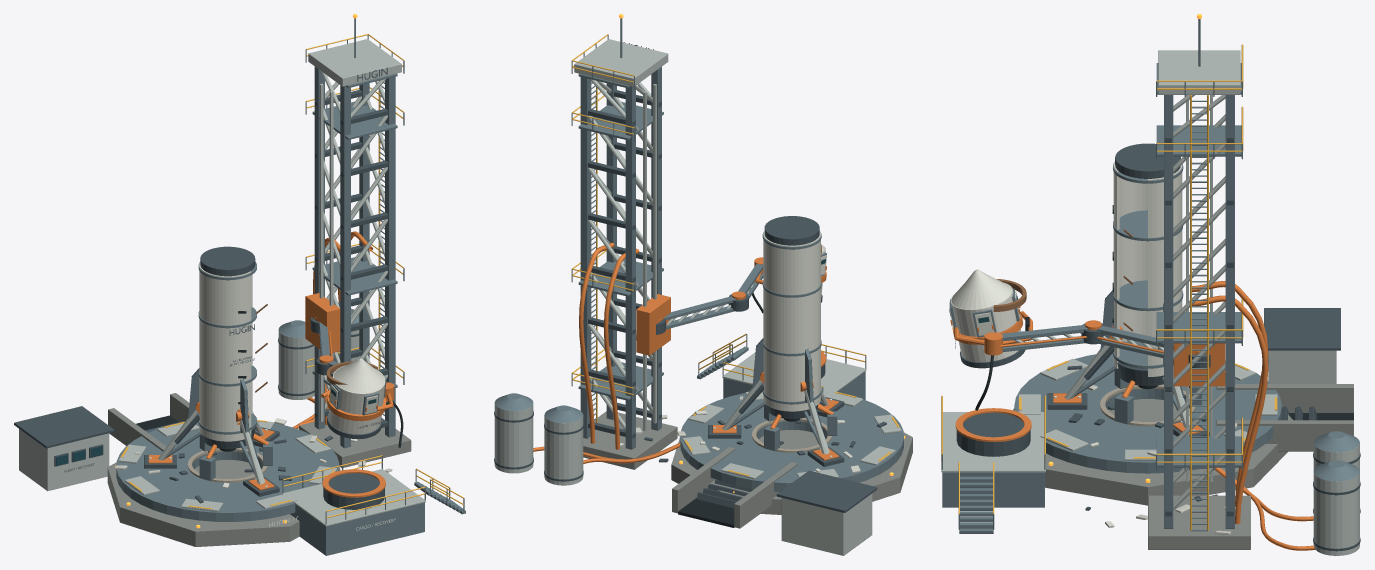
Rendered from hugin_launchpad_d2.glb.
The picture shows the model from 3 angles, left to right: view 1: azimuth 30°, elevation 25°; view 2: azimuth 150°, elevation 25°; view 3: azimuth 270°, elevation 25°; orthographic projection. The views are drawn at different scales.
Parts seen in each view (by area): view 1: Raised launch deck.002, Ruptured booster pressure hull, Octagonal launch foundation.002, Cargo receiving deck.002, Launch control shelter.002, Tower main chord.010, Tower main chord.008, Tower crown.002, Receiving deck surface.002, Control shelter roof.002, Tower main chord.009, Tower raft.002 (+13 smaller); view 2: Raised launch deck.002, Ruptured booster pressure hull, Launch control shelter.002, Tower main chord.009, Tower main chord.011, Octagonal launch foundation.002, Tower crown.002, Tower raft.002, Control shelter roof.002, Service pressure tank.004, Service pressure tank.005, Tower main chord.008 (+19 smaller); view 3: Raised launch deck.002, Ruptured booster pressure hull, Octagonal launch foundation.002, Tower raft.002, Tower main chord.010, Tower main chord.011, Tower crown.002, Service pressure tank.005, Control shelter roof.002, Receiving deck surface.002, Cargo receiving deck.002, Launch control shelter.002 (+29 smaller).
Boxes of the visible parts, <box> form: Raised launch deck.002: <box>116,422,339,521</box>; Ruptured booster pressure hull: <box>199,262,252,441</box>; Octagonal launch foundation.002: <box>107,460,340,546</box>; Cargo receiving deck.002: <box>290,502,424,555</box>; Launch control shelter.002: <box>19,429,109,491</box>; Tower main chord.010: <box>385,76,395,437</box>; Tower main chord.008: <box>340,85,350,448</box>; Tower crown.002: <box>308,39,401,86</box>; Receiving deck surface.002: <box>282,469,425,526</box>; Control shelter roof.002: <box>14,406,114,448</box>; Tower main chord.009: <box>314,66,324,429</box>; Tower raft.002: <box>299,419,411,467</box>; Raised launch deck.002: <box>680,393,903,491</box>; Ruptured booster pressure hull: <box>763,231,820,411</box>; Launch control shelter.002: <box>781,493,872,555</box>; Tower main chord.009: <box>625,86,635,449</box>; Tower main chord.011: <box>580,77,591,438</box>; Octagonal launch foundation.002: <box>671,430,912,514</box>; Tower crown.002: <box>574,39,668,86</box>; Tower raft.002: <box>583,411,677,469</box>; Control shelter roof.002: <box>776,470,877,512</box>; Service pressure tank.004: <box>544,415,583,485</box>; Service pressure tank.005: <box>494,404,533,473</box>; Tower main chord.008: <box>651,66,661,430</box>; Raised launch deck.002: <box>1014,354,1281,473</box>; Ruptured booster pressure hull: <box>1113,162,1182,376</box>; Octagonal launch foundation.002: <box>1013,399,1292,505</box>; Tower raft.002: <box>1148,495,1250,549</box>; Tower main chord.010: <box>1164,95,1173,528</box>; Tower main chord.011: <box>1225,95,1234,528</box>; Tower crown.002: <box>1158,50,1240,94</box>; Service pressure tank.005: <box>1313,472,1359,555</box>; Control shelter roof.002: <box>1264,308,1340,350</box>; Receiving deck surface.002: <box>941,412,1045,472</box>; Cargo receiving deck.002: <box>942,472,1044,507</box>; Launch control shelter.002: <box>1268,350,1336,383</box>.
Size of the model in its own units: 28.14 by 33.1 by 24.44.
